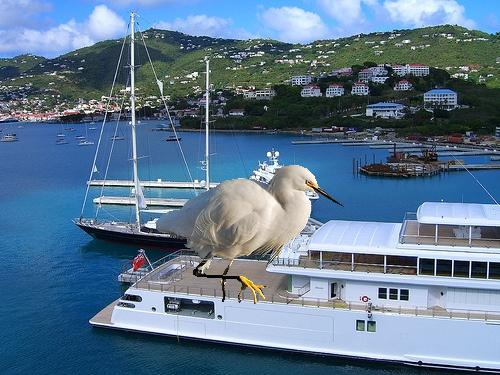tampered: (156, 166, 346, 304)
